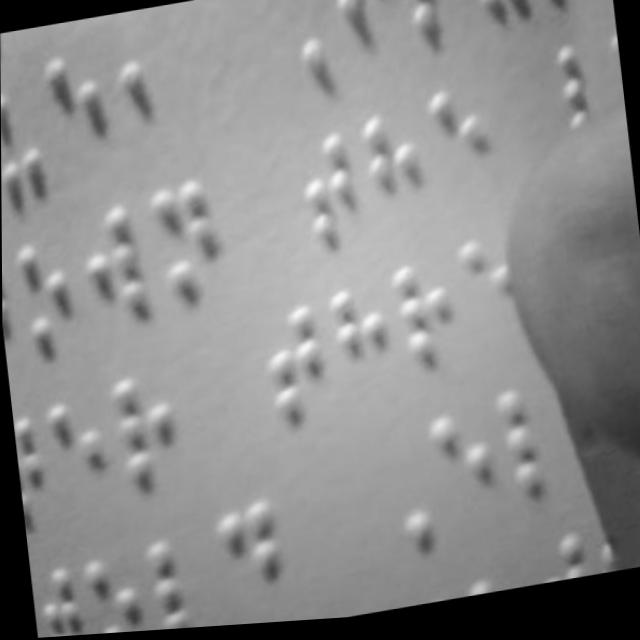braiile: (43, 33, 126, 189), (110, 4, 189, 158), (106, 358, 189, 503), (71, 193, 154, 336), (354, 96, 433, 245), (210, 489, 294, 629), (421, 73, 499, 221), (41, 379, 120, 525), (149, 164, 225, 315), (491, 380, 574, 517), (318, 271, 393, 417), (419, 403, 497, 543), (385, 252, 464, 385), (292, 124, 363, 266), (4, 223, 76, 361), (142, 517, 224, 633), (0, 67, 67, 203), (257, 298, 325, 432), (9, 393, 66, 544), (78, 533, 155, 636), (26, 547, 98, 639), (327, 0, 400, 68), (396, 0, 468, 49), (464, 0, 525, 29), (525, 0, 576, 16)
